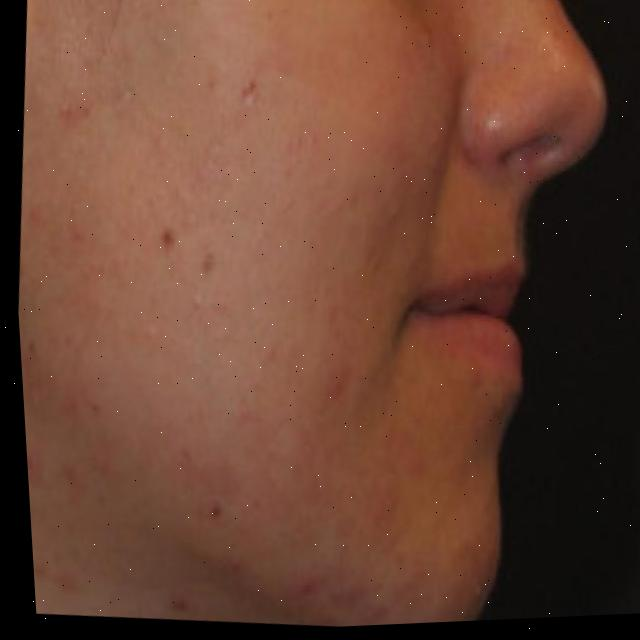Acne: (2, 19, 404, 488)
